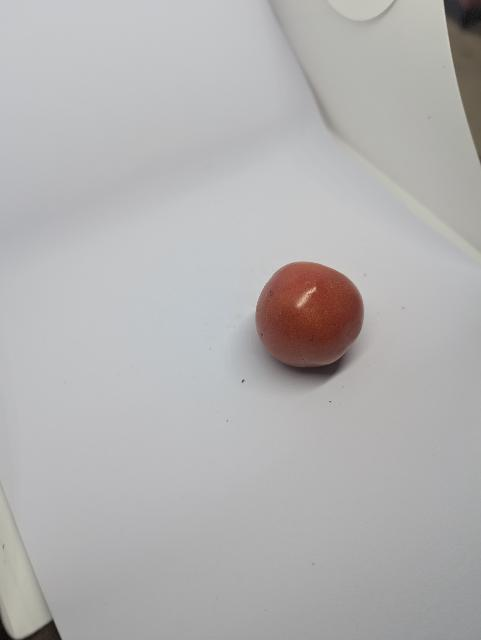red: (249, 254, 372, 383)
